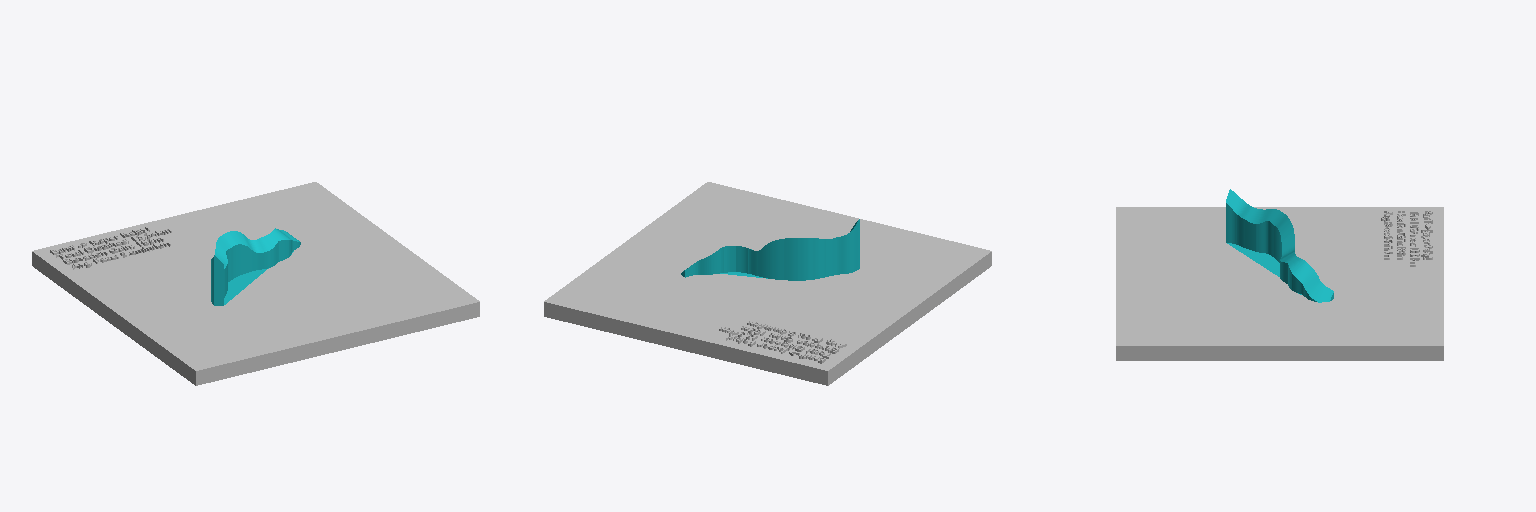
Rendered from RunViz.obj.
3 views of the same model, side by side, from view 1: azimuth 30°, elevation 25°; view 2: azimuth 150°, elevation 25°; view 3: azimuth 270°, elevation 25° (orthographic).
Visible parts, largest first — view 1: Platform, MyRun, Text; view 2: Platform, MyRun, Text; view 3: Platform, MyRun, Text.
Part boxes in pixels (x1,y1,x2,y2): Platform: (32,182,479,385); MyRun: (211,228,300,305); Text: (50,226,171,269); Platform: (544,182,991,385); MyRun: (681,219,859,280); Text: (719,320,846,363); Platform: (1116,207,1443,360); MyRun: (1226,189,1333,302); Text: (1381,210,1432,266).
Size of the model in its own units: 100 by 23.69 by 100.